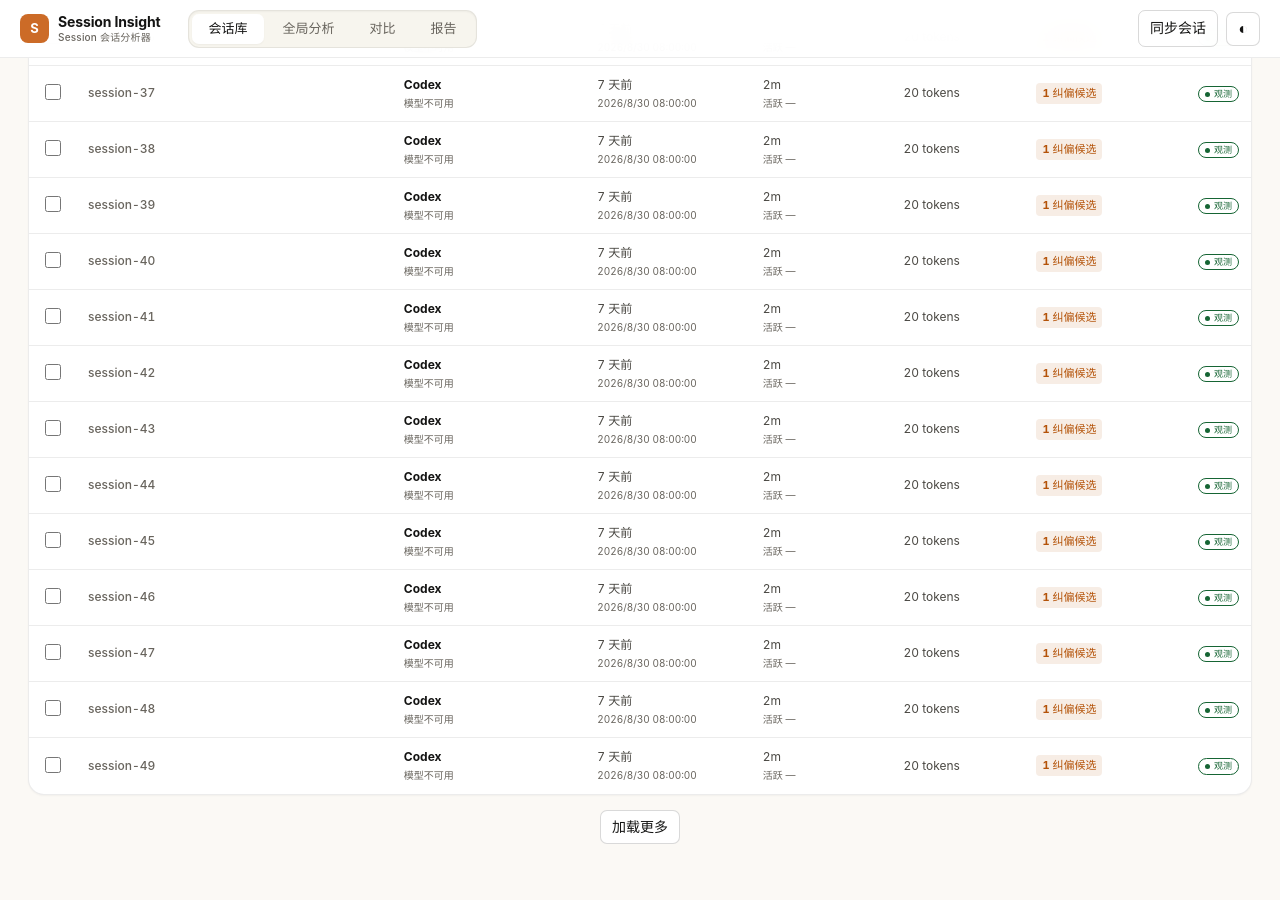
Scenario: Session Insight › loads a second page so sessions beyond the first 50 remain discoverable
(page scrolled)
Expected: the text "session-49" is shown, [88,758,155,773]
Click the button with test id "load-more".
click(640, 827)  # box [600,810,680,844]
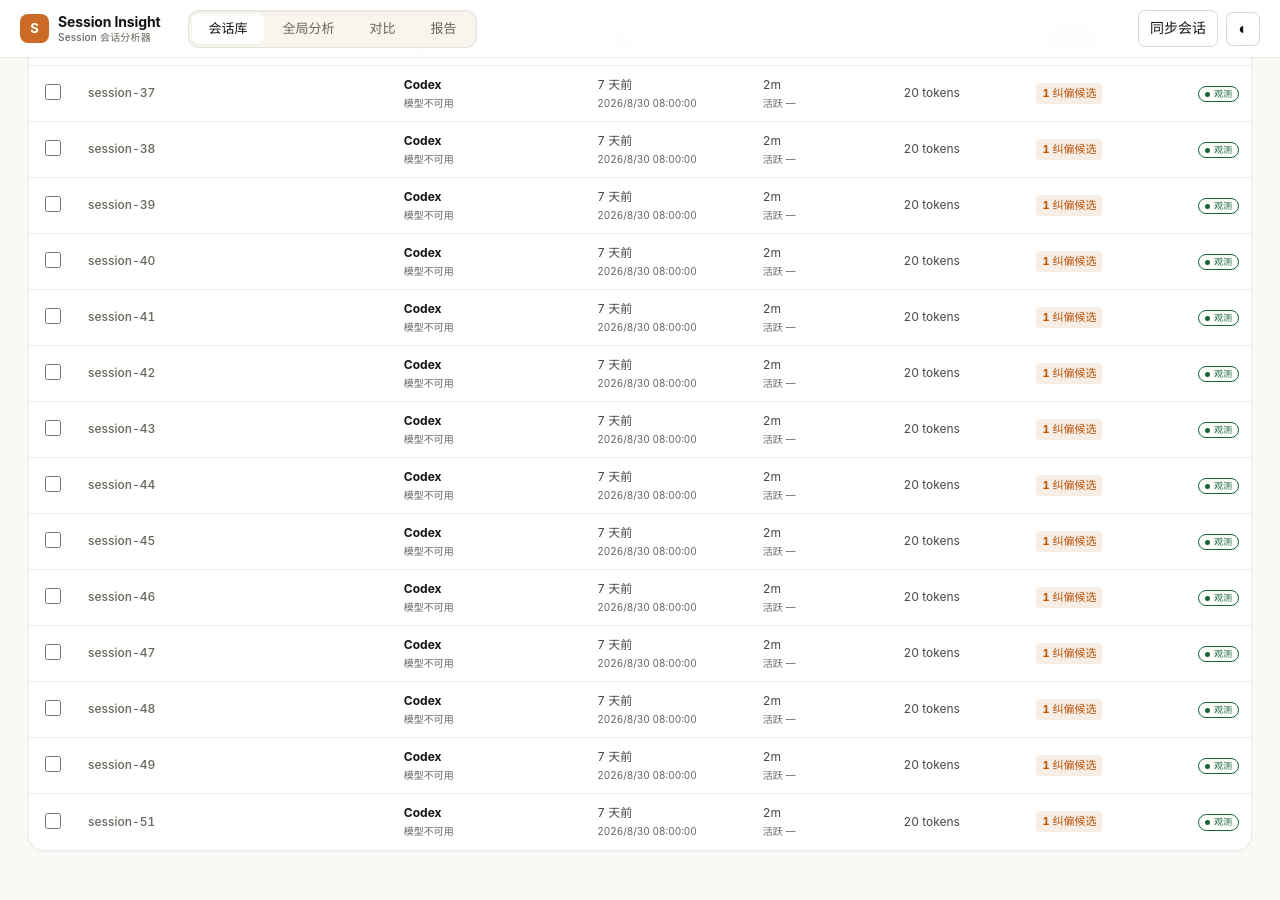
Expected: the text "session-51" is shown, [88,814,155,829]
